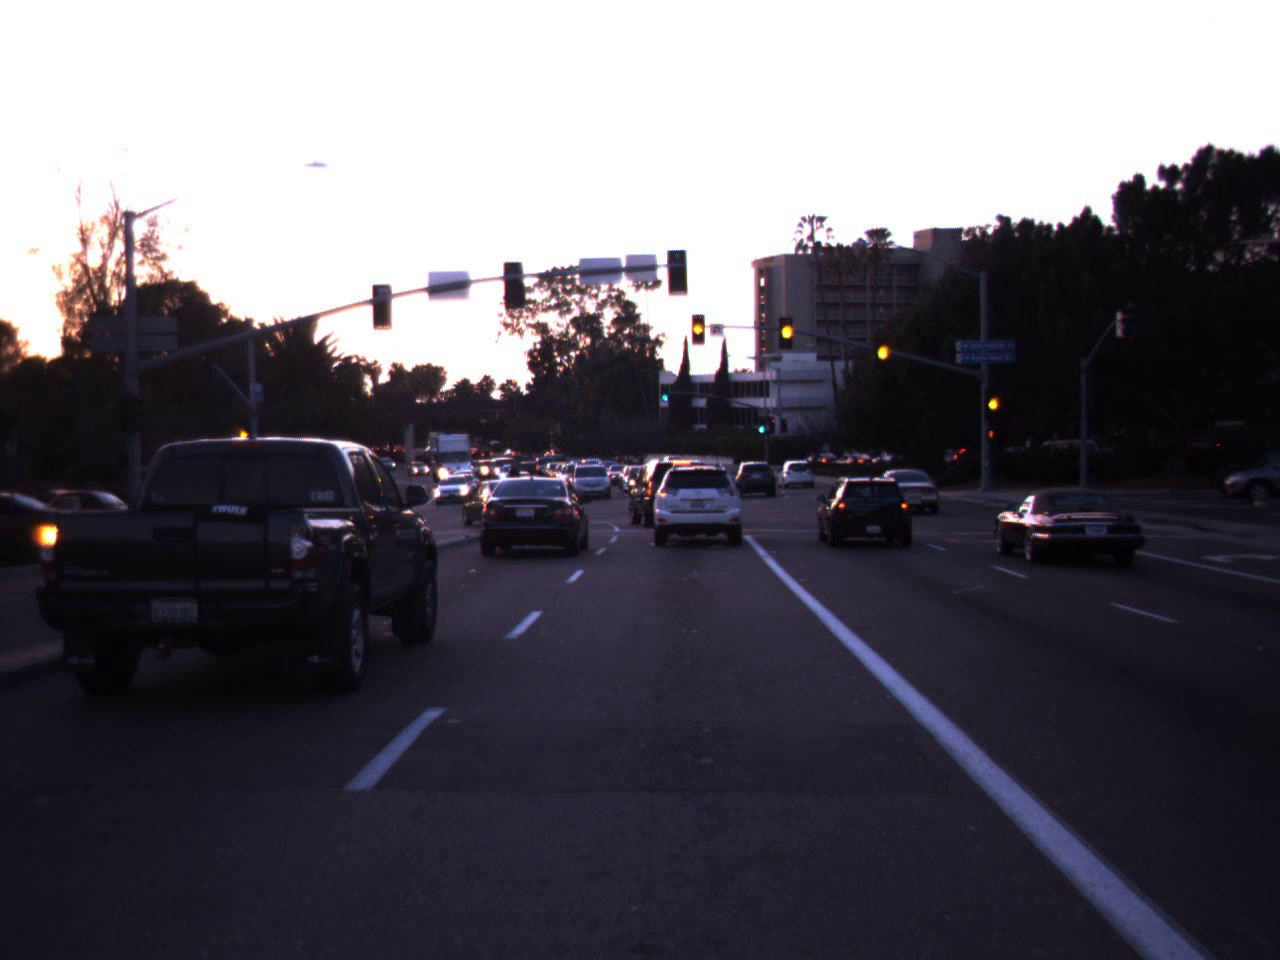go: (756, 409, 768, 434), (658, 382, 670, 402)
warning: (869, 326, 896, 375), (778, 302, 799, 356), (981, 382, 1005, 422), (686, 310, 710, 346)
